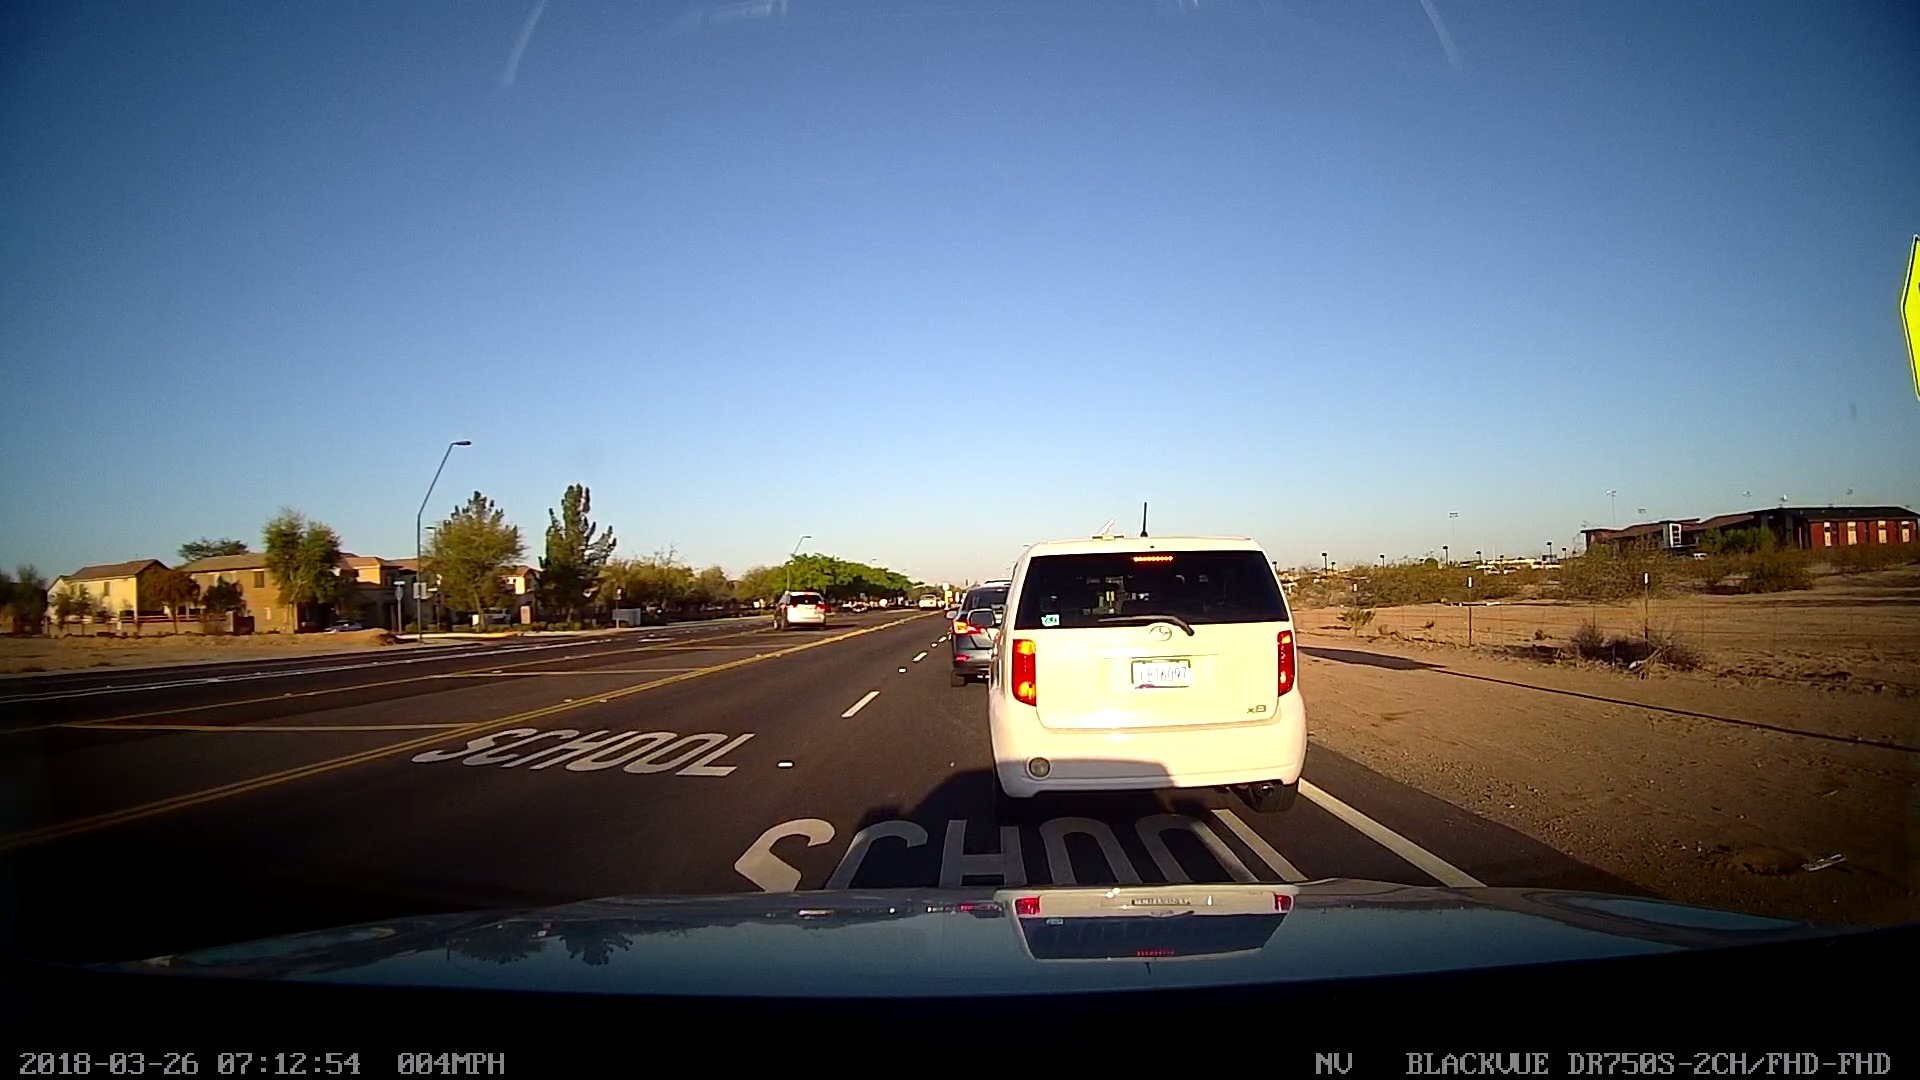plate: (1119, 651, 1204, 698)
vehicle: (983, 528, 1318, 819), (936, 572, 1018, 687), (762, 585, 826, 636)
